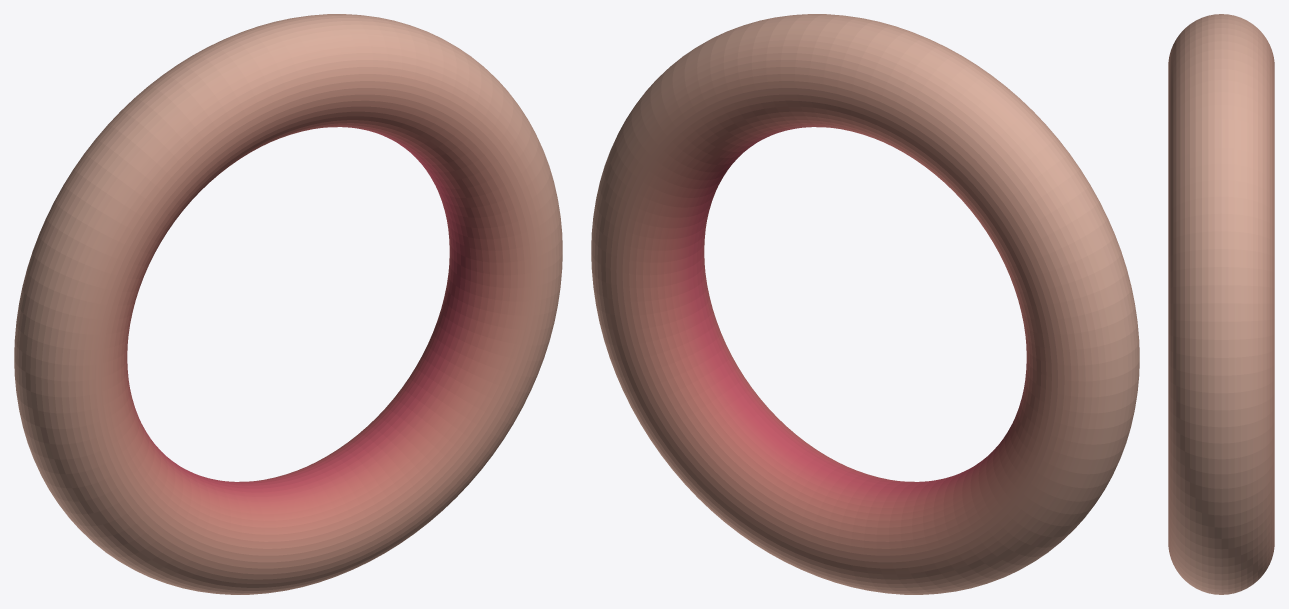
The picture shows the model from 3 angles, left to right: view 1: azimuth 30°, elevation 25°; view 2: azimuth 150°, elevation 25°; view 3: azimuth 270°, elevation 25°; orthographic projection. The views are drawn at different scales.
Parts seen in each view (by area): view 1: world; view 2: world; view 3: world.
Part boxes in pixels (box(x1,y1,x2,y2)): world: box(14, 14, 562, 594); world: box(591, 14, 1139, 594); world: box(1168, 14, 1274, 594).
Size of the model in its own units: 32.67 by 32.67 by 5.99.
